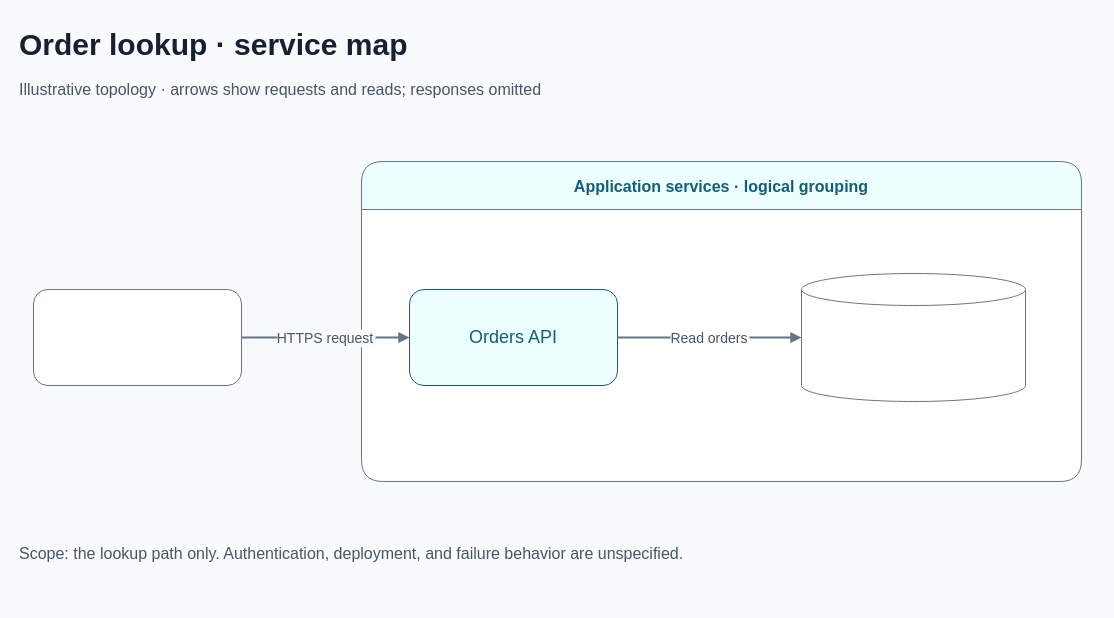
Image size: 1114x618. Some labels were removed from this diagram. Here are the shapes that lost their labels. From the top down, the centre of each, then its label:
At pixel 137 337: "Web client".
At pixel 913 337: "Orders database".
